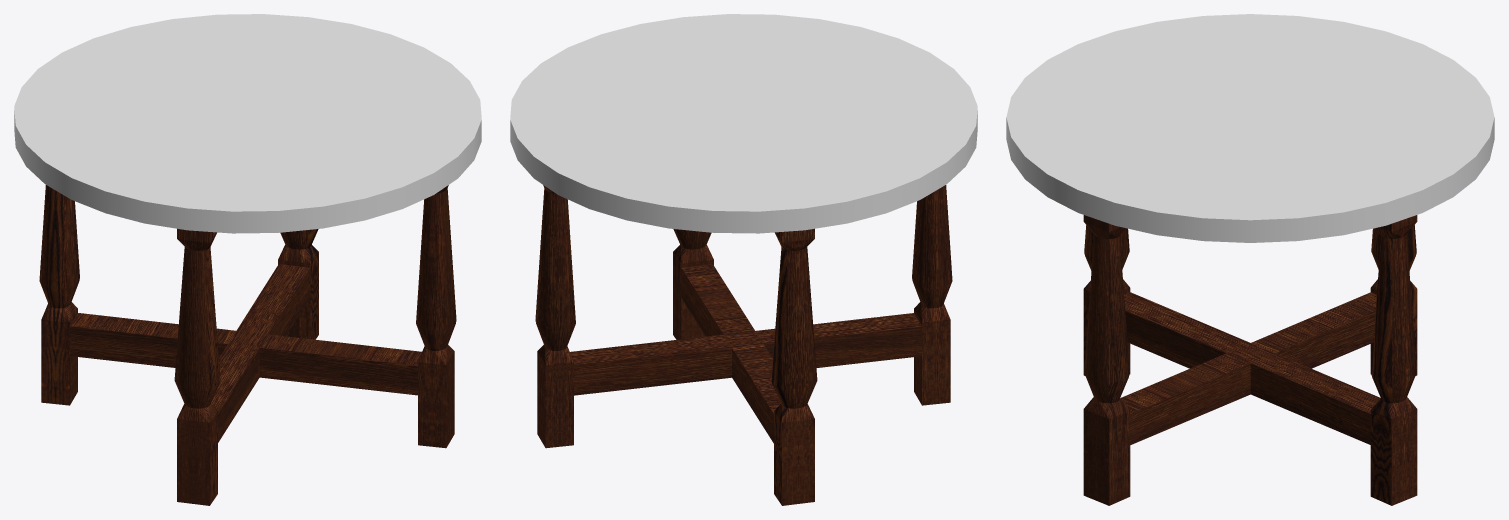
The model's file is Small Table.fbx.
3 renders of one model, left to right at view 1: azimuth 30°, elevation 25°; view 2: azimuth 150°, elevation 25°; view 3: azimuth 270°, elevation 25°, orthographic. The views are drawn at different scales.
Visible parts, largest first — view 1: small table; view 2: small table; view 3: small table.
Boxes of the visible parts, bbox=[...] form: small table: bbox=[14, 14, 481, 505]; small table: bbox=[510, 14, 977, 505]; small table: bbox=[1006, 14, 1494, 505].
Bounding box in the file's own units: 68.02 × 48.95 × 68.02.
